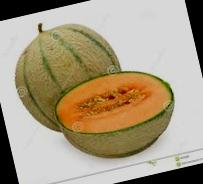Melon Ripe: (1, 7, 134, 141), (49, 59, 185, 170)
